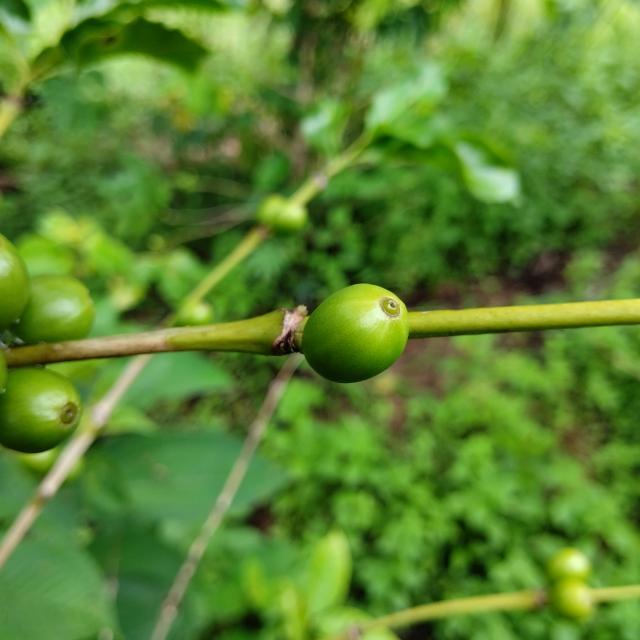green: (302, 284, 409, 383), (0, 368, 81, 454), (12, 275, 94, 344), (0, 234, 28, 330)
